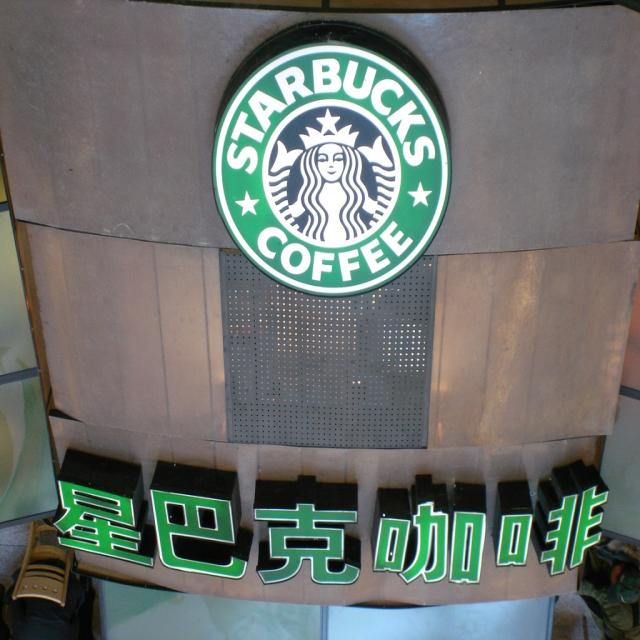starbucks: (213, 44, 451, 298)
